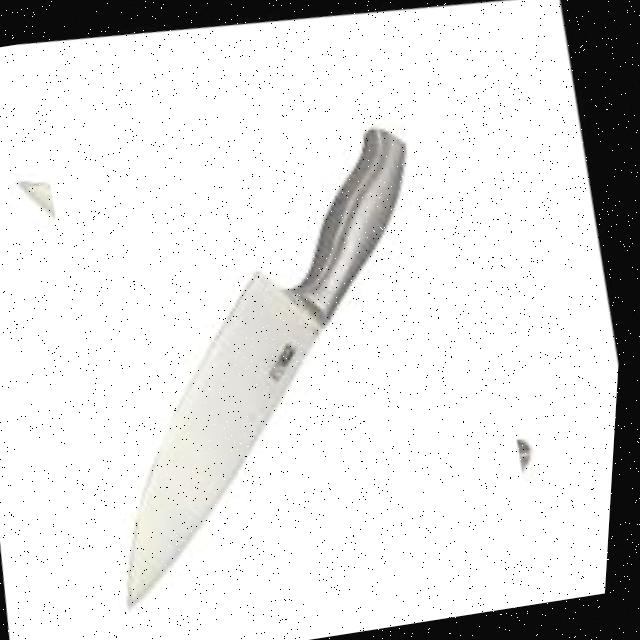knife: (63, 120, 476, 612)
